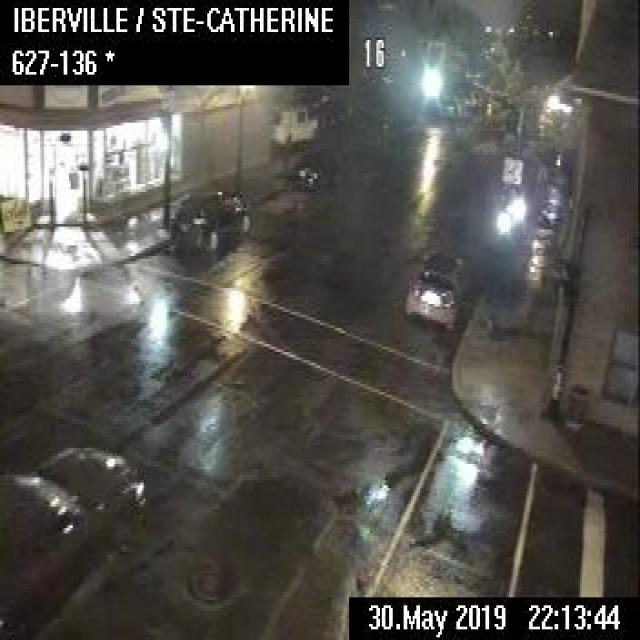vehicle: (0, 440, 149, 637), (402, 251, 474, 330), (169, 187, 249, 253), (287, 147, 337, 190)
